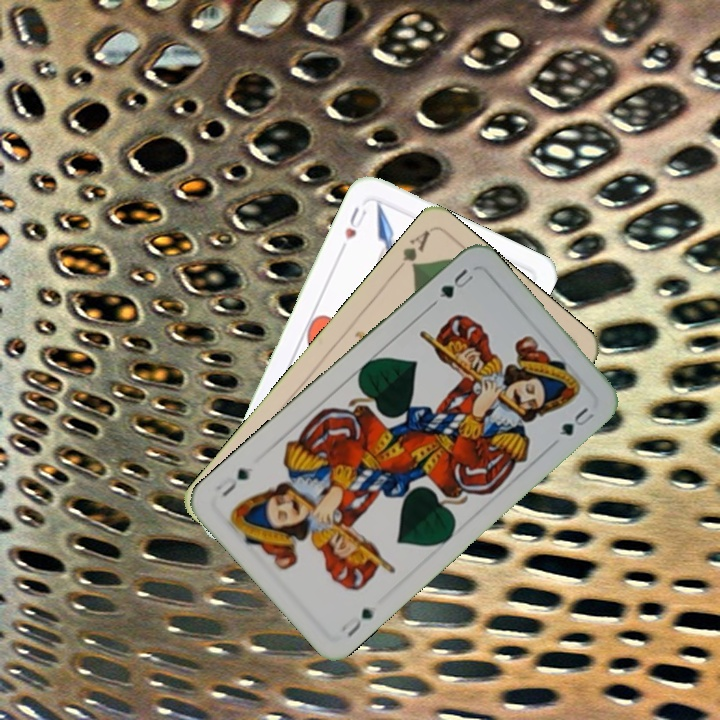GA: (390, 225, 433, 276)
GU: (435, 264, 476, 301), (337, 604, 378, 640)
HU: (340, 202, 369, 242)
